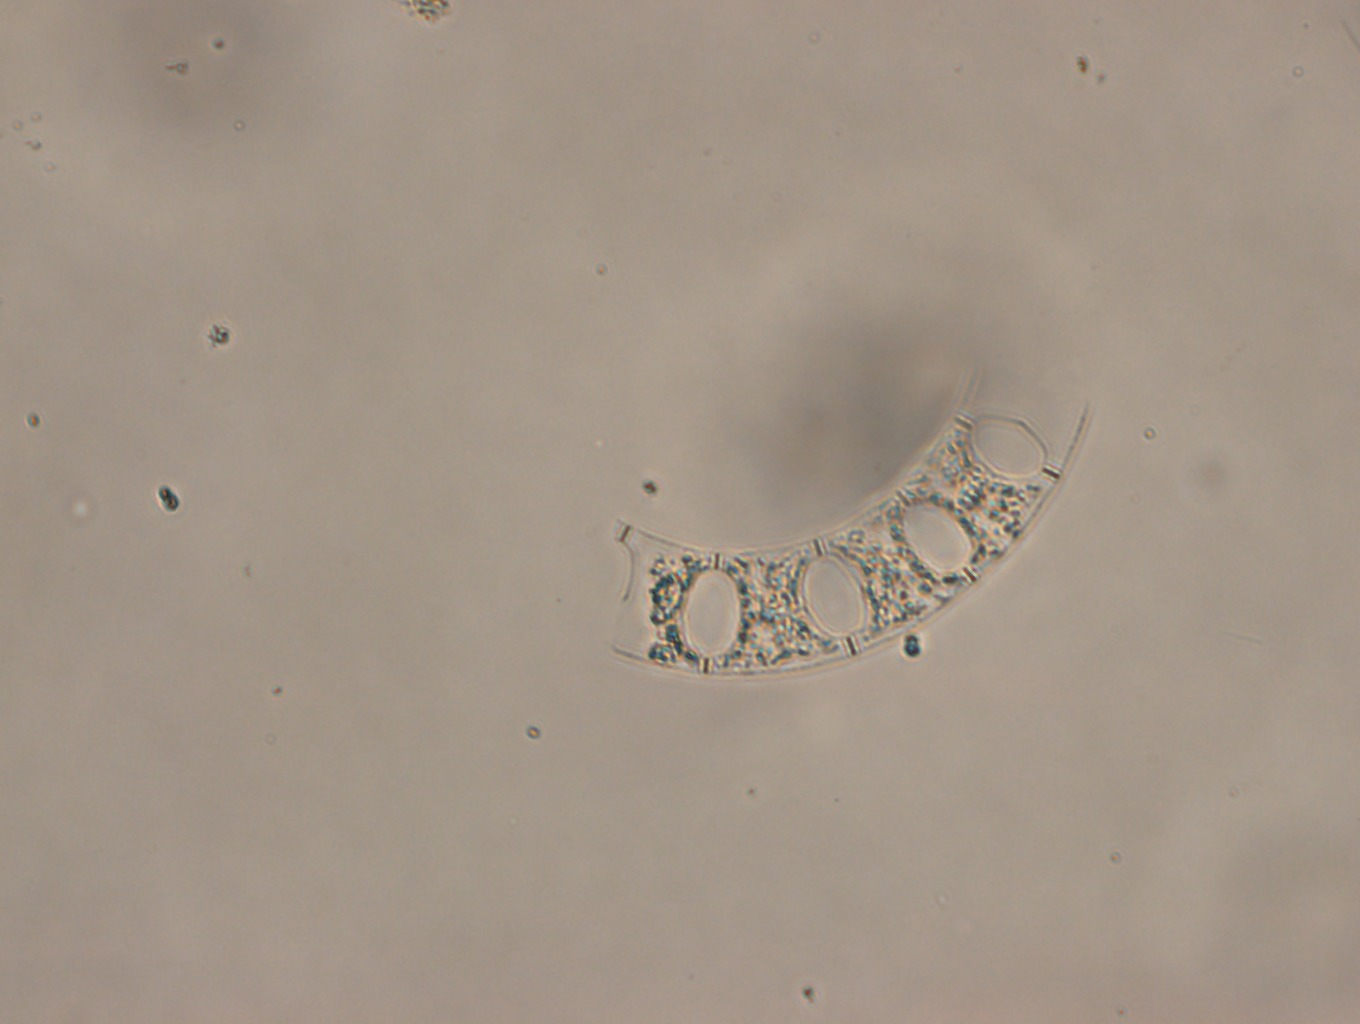eucampia: (602, 368, 1089, 679)
